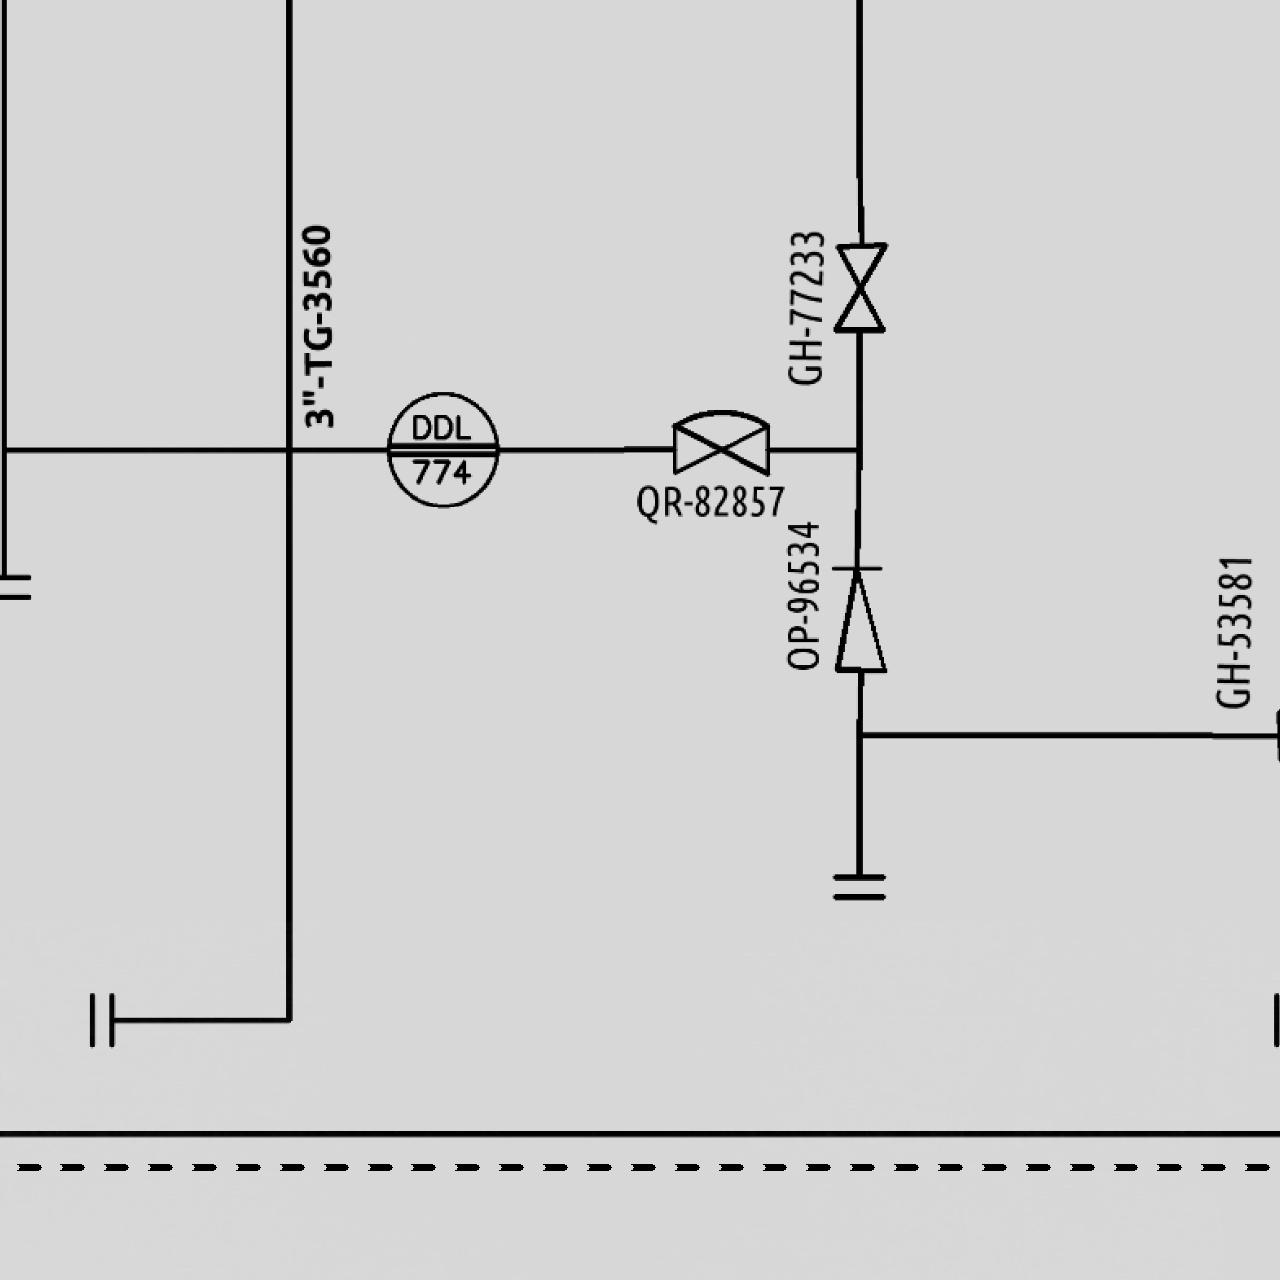Control-Panel: (377, 386, 506, 511)
